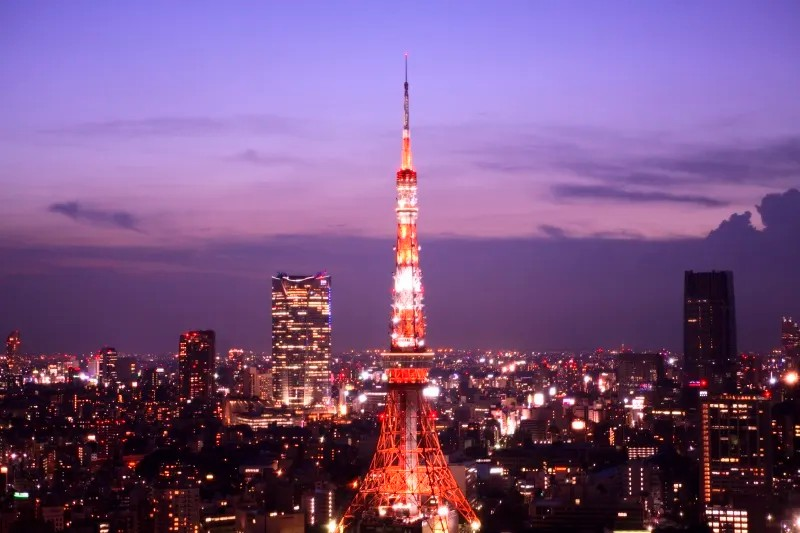Tokyo: (339, 48, 479, 532)
